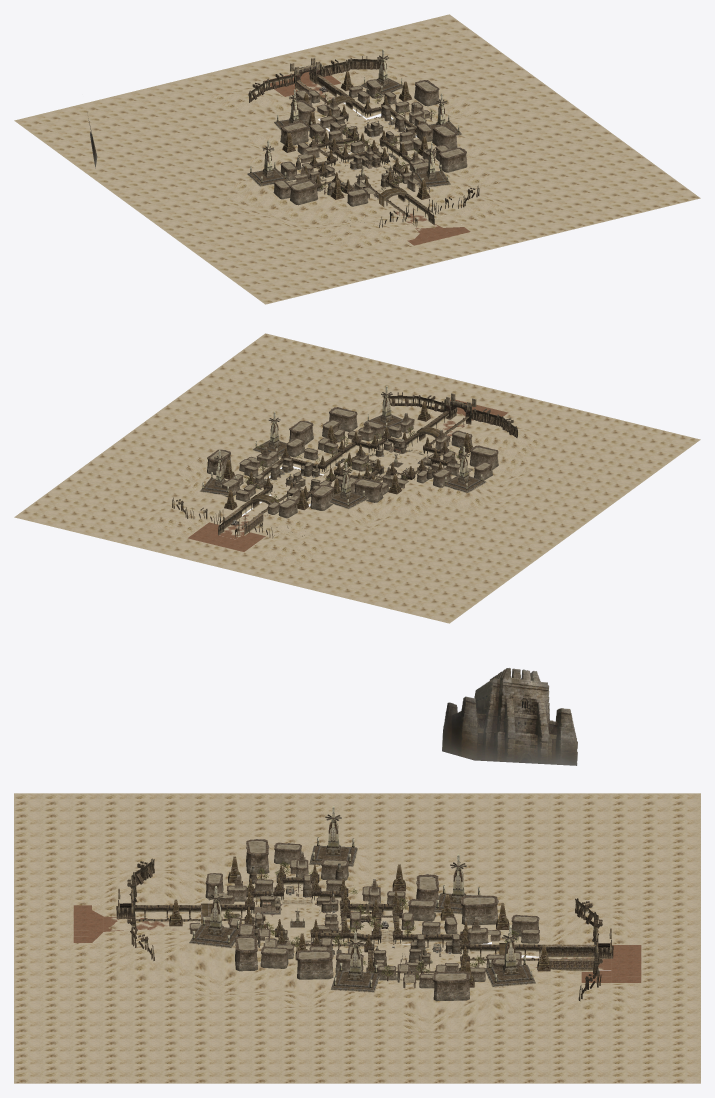
Rendered from map_T04.glb.
The picture shows the model from 3 angles, top to bottom: view 1: azimuth 30°, elevation 25°; view 2: azimuth 150°, elevation 25°; view 3: azimuth 270°, elevation 25°; orthographic projection. The views are drawn at different scales.
Visible parts, largest first — view 1: default_ground, OM_09_sn_T04bldg06B (×5), OM_23_wv_T04obj01A (×3), OM_09_wv_T04gateA; view 2: default_ground, OM_23_wv_T04obj01A (×5), OM_09_sn_T04bldg06B (×4), OM_09_wv_T04gateA; view 3: default_ground, OM_60_sn_T04bg03A, OM_23_wv_T04obj01A (×5), OM_09_sn_T04bldg06B (×5), OM_09_wv_T04wall01F.
Part boxes in pixels (x1,y1,x2,y2): default_ground: [14, 14, 700, 304]; OM_09_sn_T04bldg06B (×5): [280, 80, 467, 205]; OM_23_wv_T04obj01A (×3): [247, 49, 450, 187]; OM_09_wv_T04gateA: [290, 58, 322, 89]; default_ground: [14, 333, 700, 623]; OM_23_wv_T04obj01A (×5): [199, 385, 486, 509]; OM_09_sn_T04bldg06B (×4): [310, 407, 498, 510]; OM_09_wv_T04gateA: [443, 393, 476, 424]; default_ground: [14, 793, 700, 1083]; OM_60_sn_T04bg03A: [442, 668, 577, 765]; OM_23_wv_T04obj01A (×5): [189, 805, 536, 992]; OM_09_sn_T04bldg06B (×5): [235, 839, 498, 1001]; OM_09_wv_T04wall01F: [545, 944, 595, 957].
Bounding box in the file's own units: 581 × 122 × 552.
253 materials, 253 textured.
